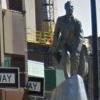Statue: (45, 0, 100, 83)
